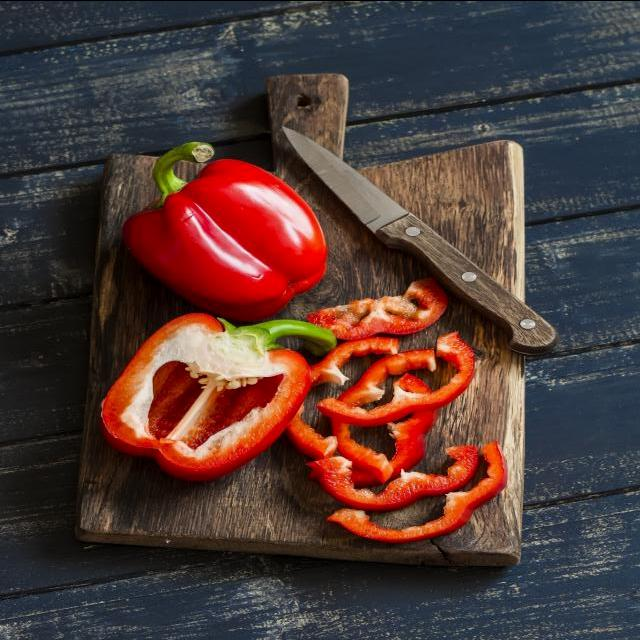bell_pepper: (118, 143, 333, 310)
